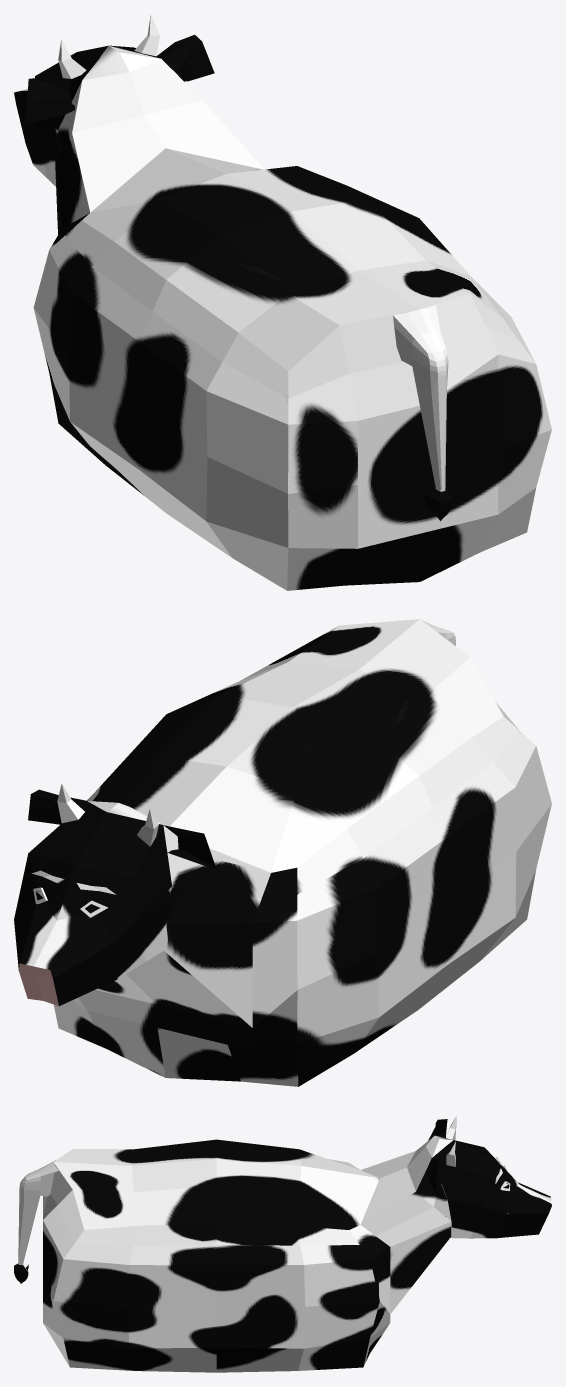
Rendered from InekSiyah.fbx.
The picture shows the model from 3 angles, top to bottom: view 1: azimuth 30°, elevation 25°; view 2: azimuth 150°, elevation 25°; view 3: azimuth 270°, elevation 25°; orthographic projection. The views are drawn at different scales.
Visible parts, largest first — view 1: CowSiyah; view 2: CowSiyah; view 3: CowSiyah.
Part boxes in pixels (x1,y1,x2,y2): CowSiyah: [14, 14, 551, 590]; CowSiyah: [14, 619, 551, 1086]; CowSiyah: [14, 1116, 551, 1372].
Size of the model in its own units: 2.49 by 2.63 by 5.94.
